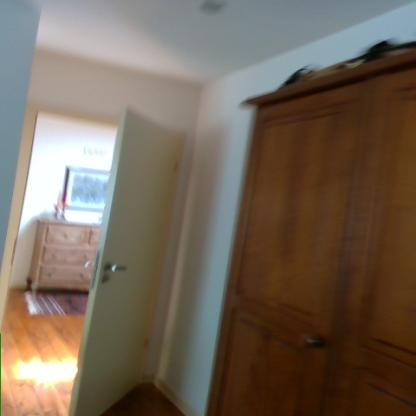semi: (8, 93, 204, 415)
